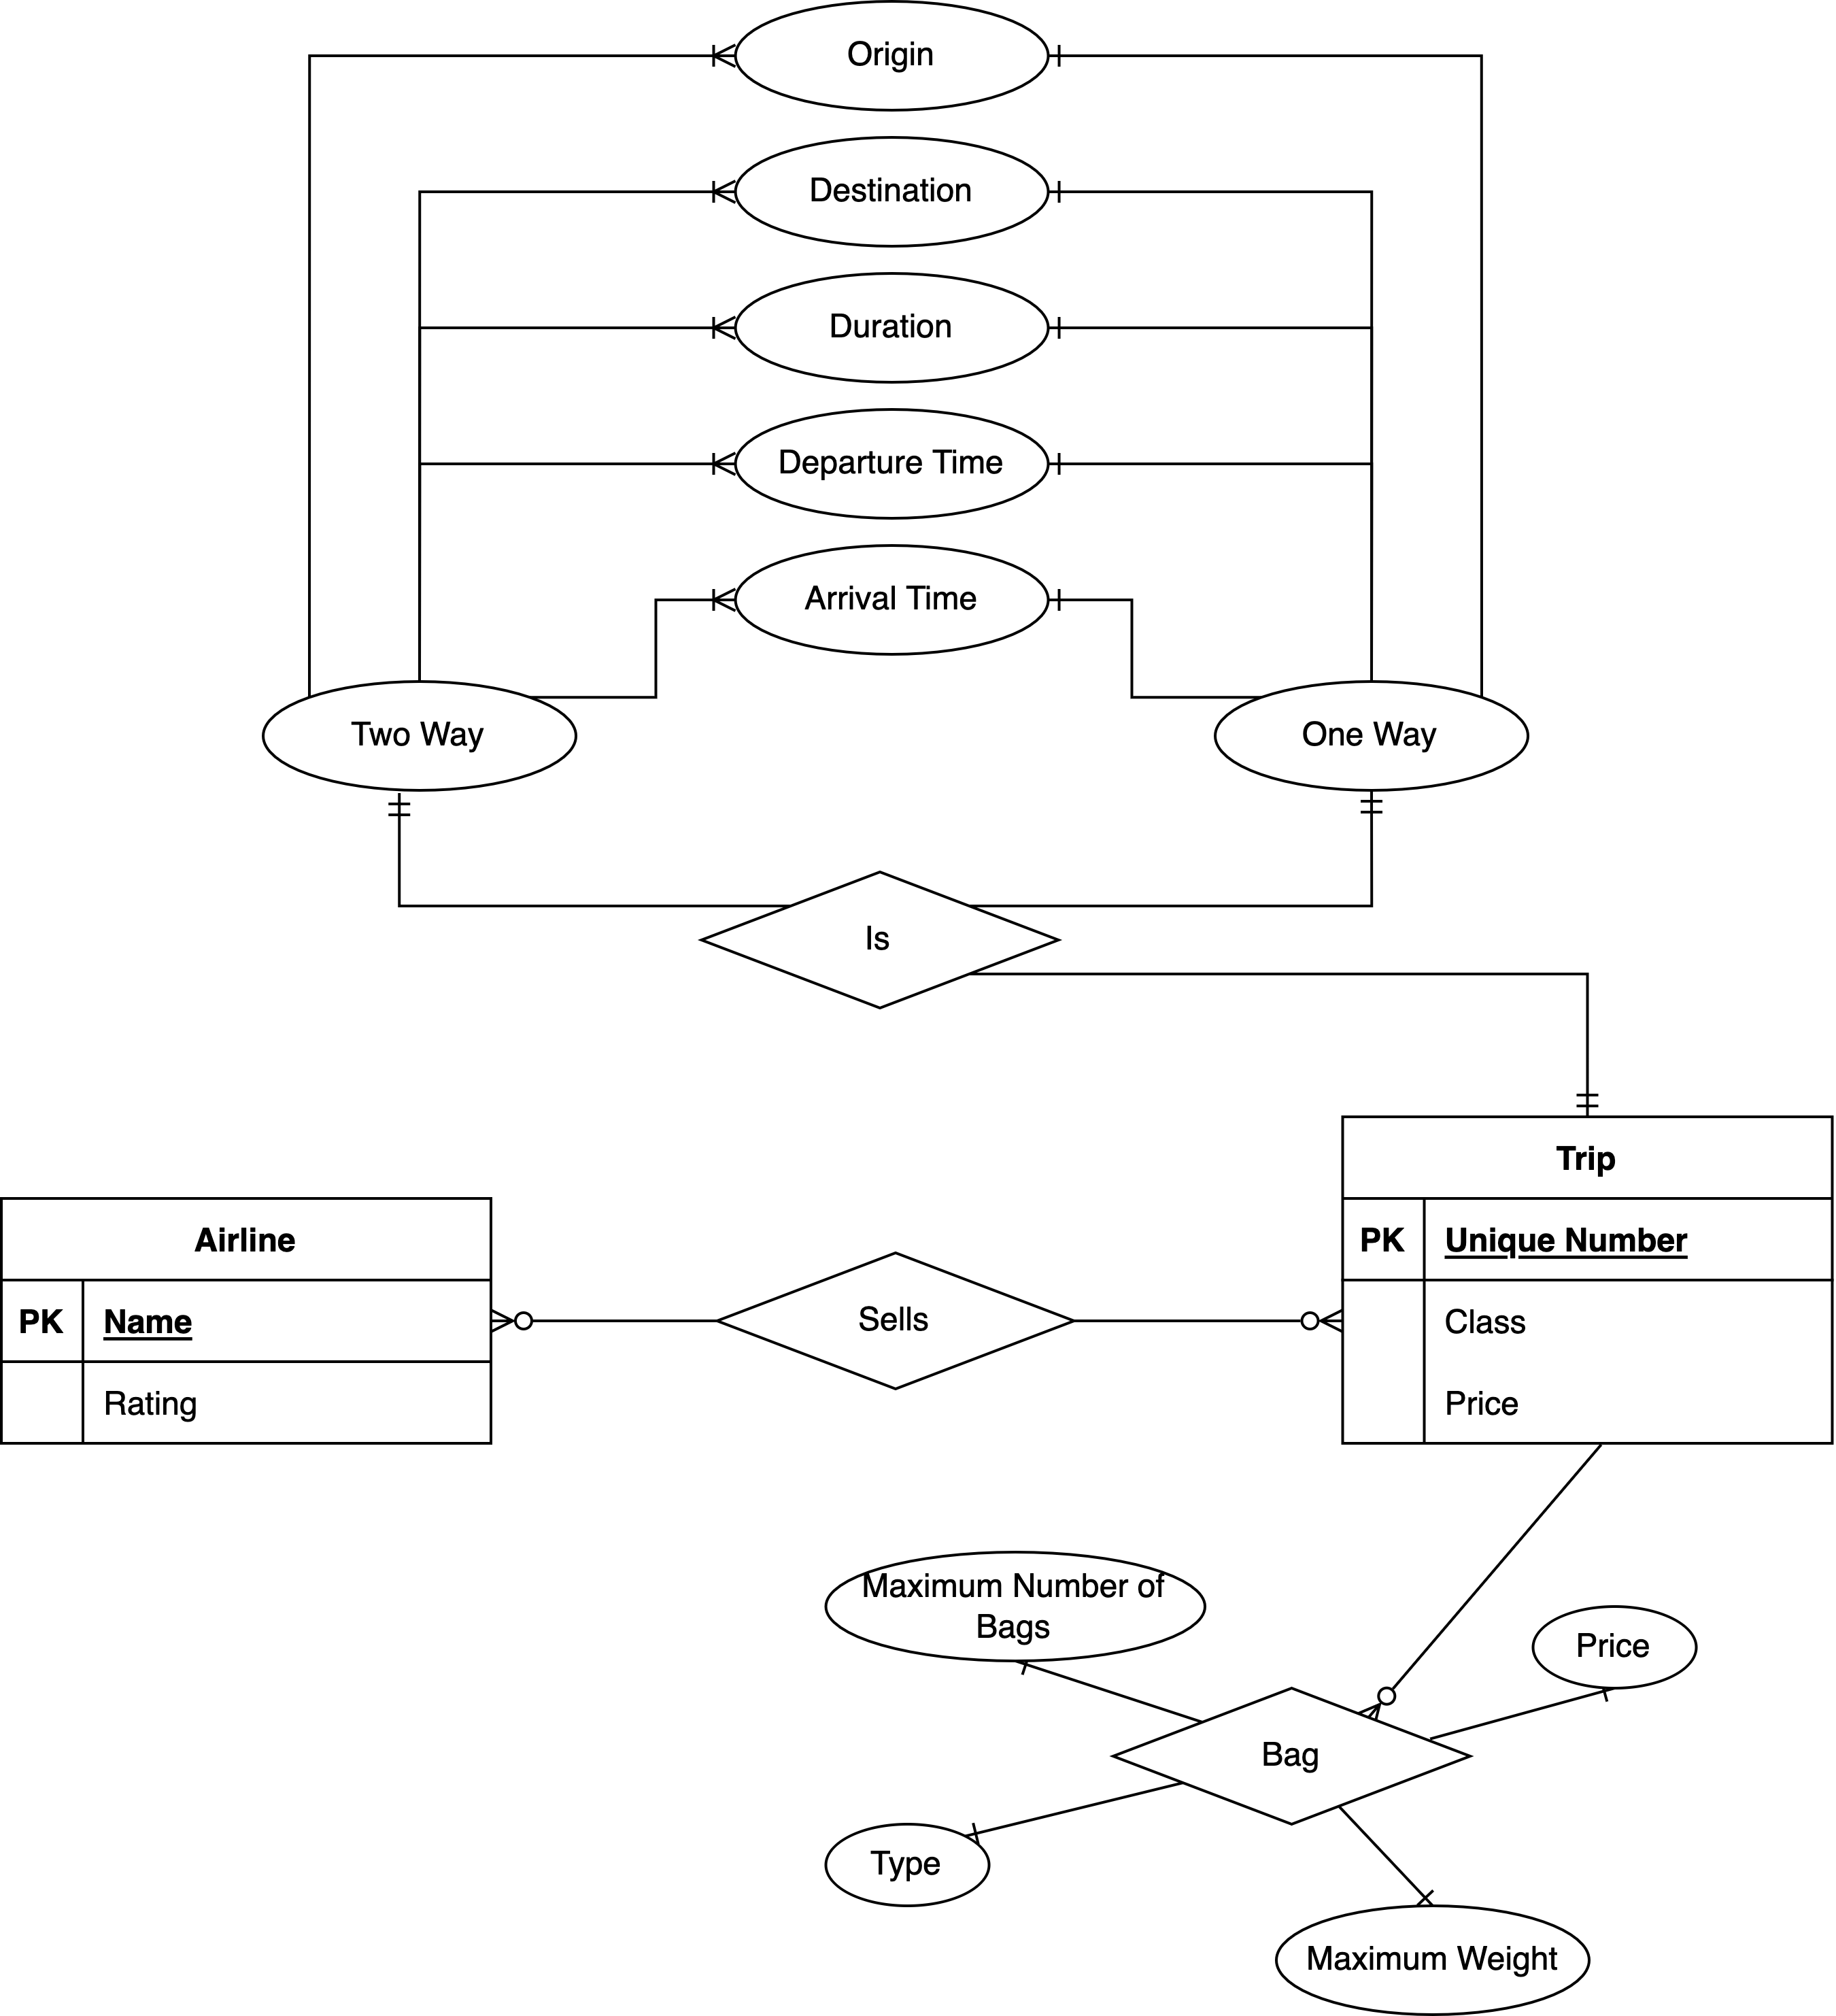entity: (1343, 1117, 1836, 1444), (2, 1201, 490, 1442)
many: (486, 1307, 590, 1338), (655, 585, 739, 618), (660, 177, 741, 211), (1266, 1307, 1341, 1342), (658, 313, 741, 342), (662, 450, 734, 481), (662, 40, 739, 68), (1355, 1675, 1404, 1717)
one: (1573, 973, 1604, 1120), (1360, 794, 1392, 903), (388, 794, 414, 910), (1050, 179, 1162, 205), (1048, 585, 1129, 616), (1050, 46, 1160, 68), (1050, 453, 1139, 479), (1013, 1651, 1083, 1682), (1053, 320, 1141, 342), (1397, 1867, 1441, 1907), (965, 1823, 1037, 1840), (1569, 1686, 1618, 1705)
rel: (716, 1249, 1074, 1391), (1115, 1689, 1467, 1828), (704, 875, 1060, 1004)
rel_attr: (823, 1551, 1206, 1660), (1213, 680, 1531, 790), (1278, 1905, 1594, 2016), (263, 681, 581, 788), (820, 1821, 992, 1909), (1534, 1609, 1694, 1686)
